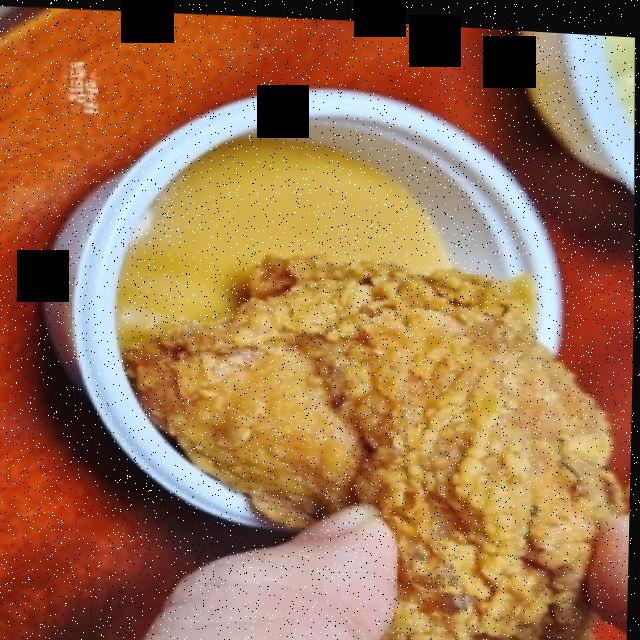Frango: (123, 228, 610, 640)
